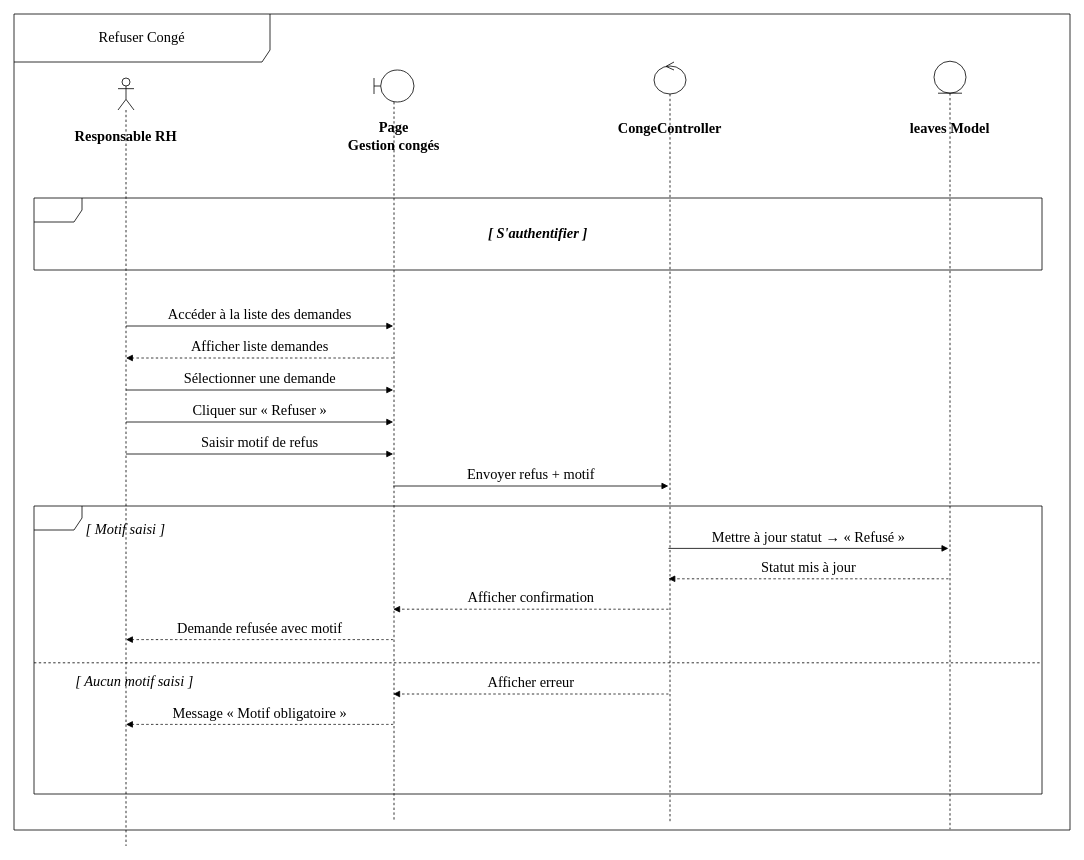
The diagram is 1084 pixels wide and 860 high, and some of its shapes have lost their labels. The shapes that lost their labels are listed below. From the top down, each one's box as (x1, y1, x2, y2) in pixels, then its label:
(33, 197, 1042, 270): ref
(33, 505, 1042, 794): alt
